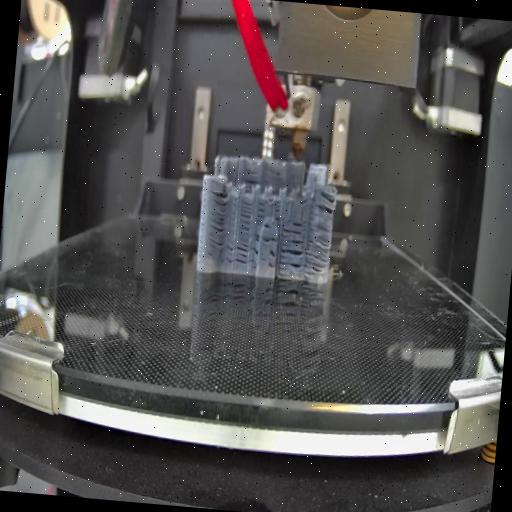cracks: (303, 224, 333, 278), (208, 189, 228, 253), (278, 238, 304, 274), (314, 192, 338, 216), (238, 202, 254, 234), (281, 221, 304, 238), (235, 244, 249, 268), (250, 235, 259, 272), (266, 250, 278, 274), (224, 240, 234, 268), (273, 200, 284, 223), (259, 235, 278, 247), (242, 176, 260, 188), (256, 204, 266, 222), (262, 223, 272, 229)
